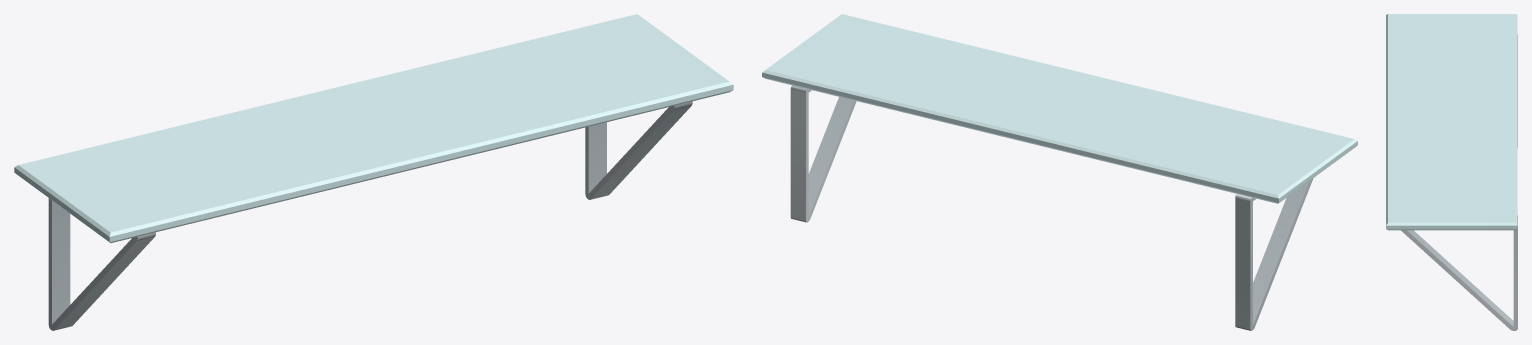
The model's file is Shelve.fbx.
3 views of the same model, side by side, from view 1: azimuth 30°, elevation 25°; view 2: azimuth 150°, elevation 25°; view 3: azimuth 270°, elevation 25° (orthographic). The views are drawn at different scales.
Visible parts, largest first — view 1: Bookshelf:Bookshelf; view 2: Bookshelf:Bookshelf; view 3: Bookshelf:Bookshelf.
Part boxes in pixels (x1,y1,x2,y2): Bookshelf:Bookshelf: (14, 14, 733, 330); Bookshelf:Bookshelf: (762, 14, 1357, 330); Bookshelf:Bookshelf: (1386, 14, 1517, 330).
Bounding box in the file's own units: 1.26 × 0.3321 × 0.3333.
